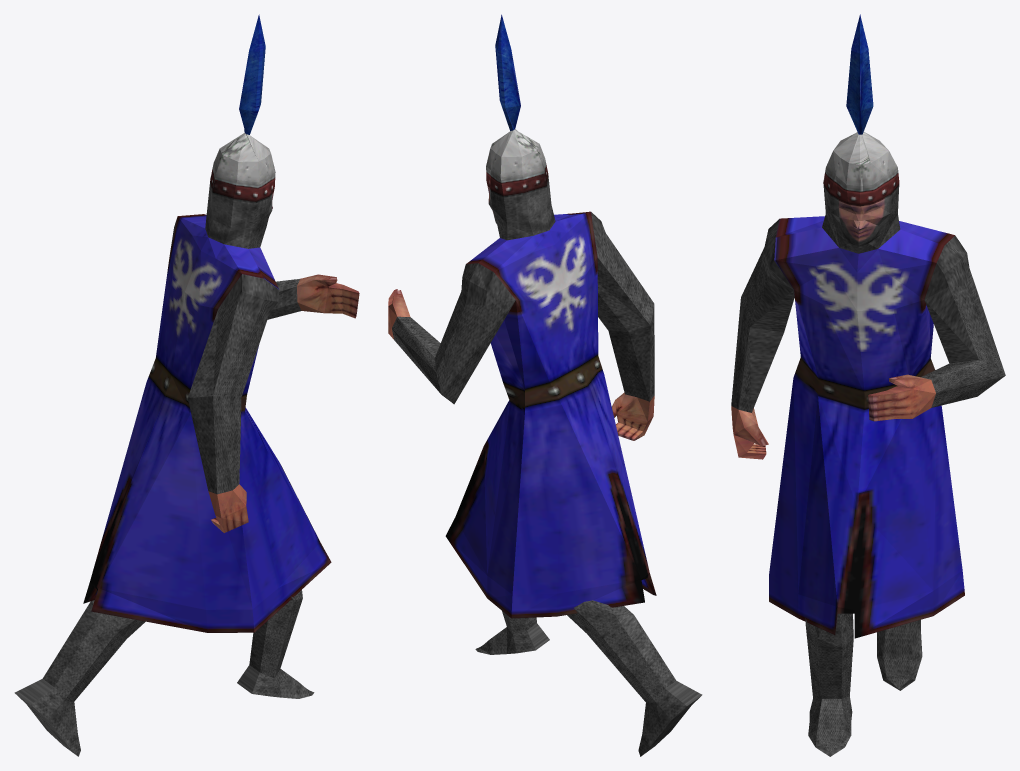
The model's file is guard_run18.obj.
3 renders of one model, left to right at view 1: azimuth 30°, elevation 25°; view 2: azimuth 150°, elevation 25°; view 3: azimuth 270°, elevation 25°, orthographic. The views are drawn at different scales.
Parts seen in each view (by area): view 1: Object_1; view 2: Object_1; view 3: Object_1.
Part boxes in pixels (left/top/right/bottom): Object_1: left=14, top=14, right=359, bottom=756; Object_1: left=388, top=14, right=702, bottom=756; Object_1: left=731, top=14, right=1005, bottom=756.
Size of the model in its own units: 1.04 by 2.2 by 0.7201.
1 material, 1 textured.
